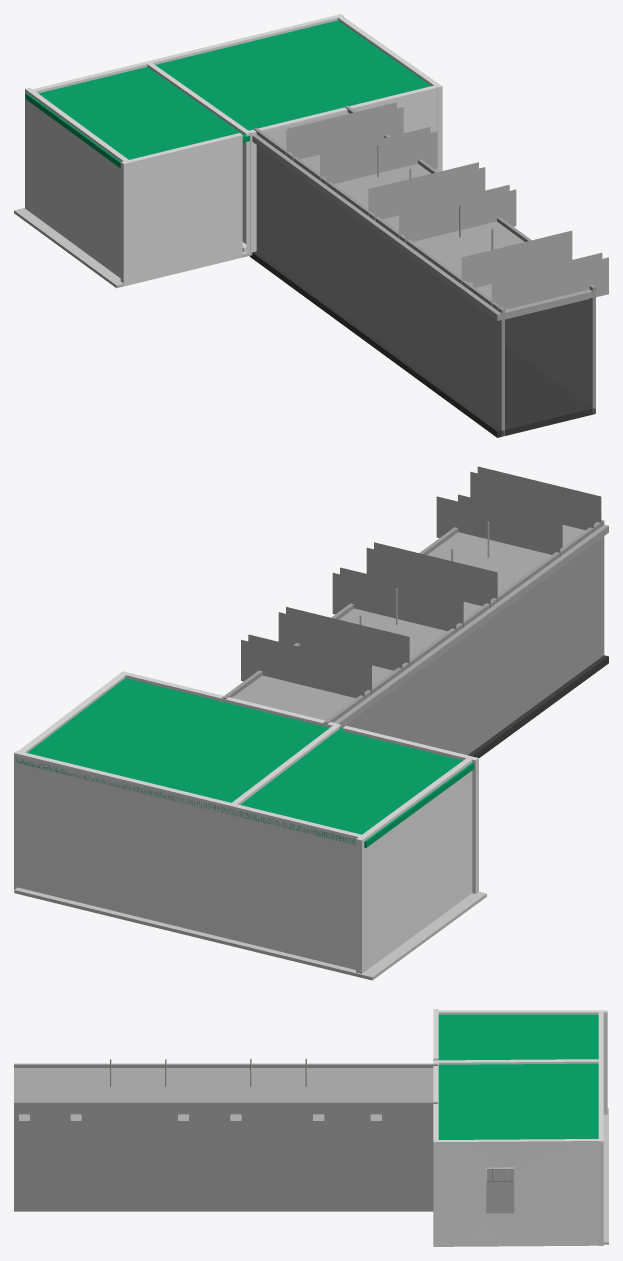
File: Intro3.fbx
The picture shows the model from 3 angles, top to bottom: view 1: azimuth 30°, elevation 25°; view 2: azimuth 150°, elevation 25°; view 3: azimuth 270°, elevation 25°; orthographic projection. The views are drawn at different scales.
Visible parts, largest first — view 1: Salleintro, Couloir, Poutres_intros; view 2: Salleintro, Couloir, Poutres_intros; view 3: Couloir, Salleintro, Windows_Squared, Poutres_intros, Windows_Squared1.
Part boxes in pixels (box(x1,y1,x2,y2)): Salleintro: box(14, 14, 442, 288); Couloir: box(249, 106, 595, 437); Poutres_intros: box(286, 102, 608, 320); Salleintro: box(14, 671, 486, 980); Couloir: box(222, 520, 608, 757); Poutres_intros: box(241, 466, 601, 699); Couloir: box(14, 1063, 437, 1211); Salleintro: box(433, 1009, 608, 1246); Windows_Squared: box(486, 1180, 514, 1213); Poutres_intros: box(19, 1058, 381, 1120); Windows_Squared1: box(486, 1167, 513, 1181).
Bounding box in the file's own units: 16.08 × 7.32 × 29.66.
